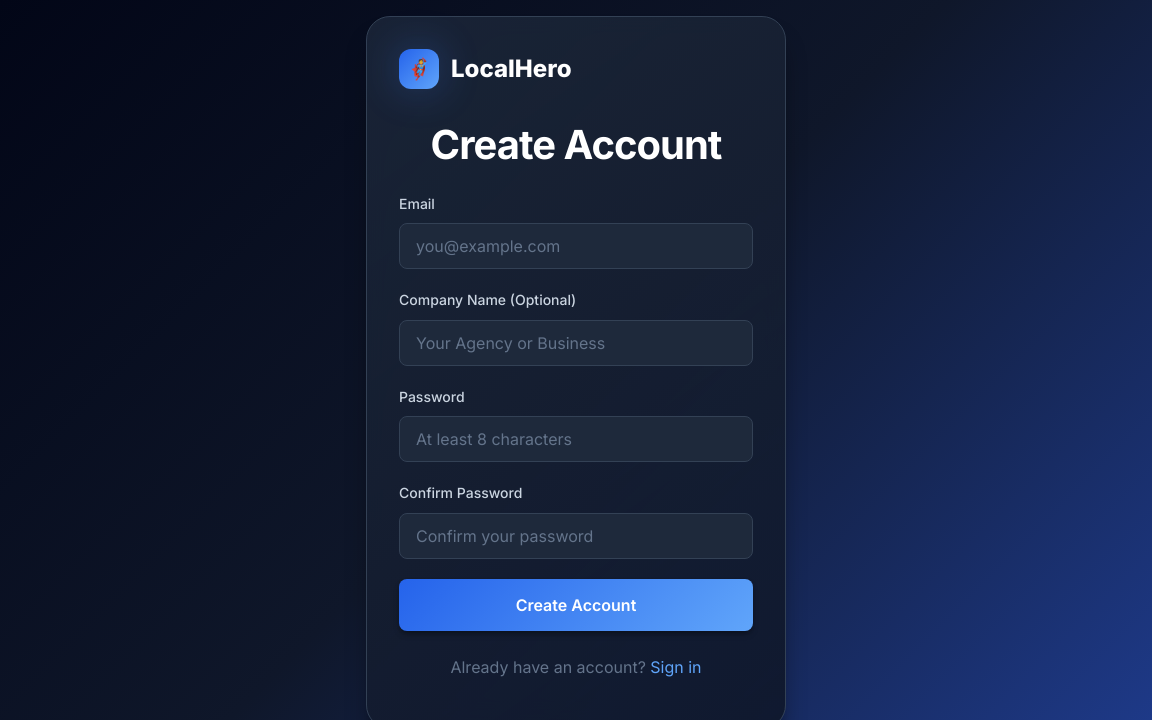
Register › shows error when passwords do not match
Type "test@example.com" into the field labelled "Email". click: (576, 246)
box: [399,223,753,269]
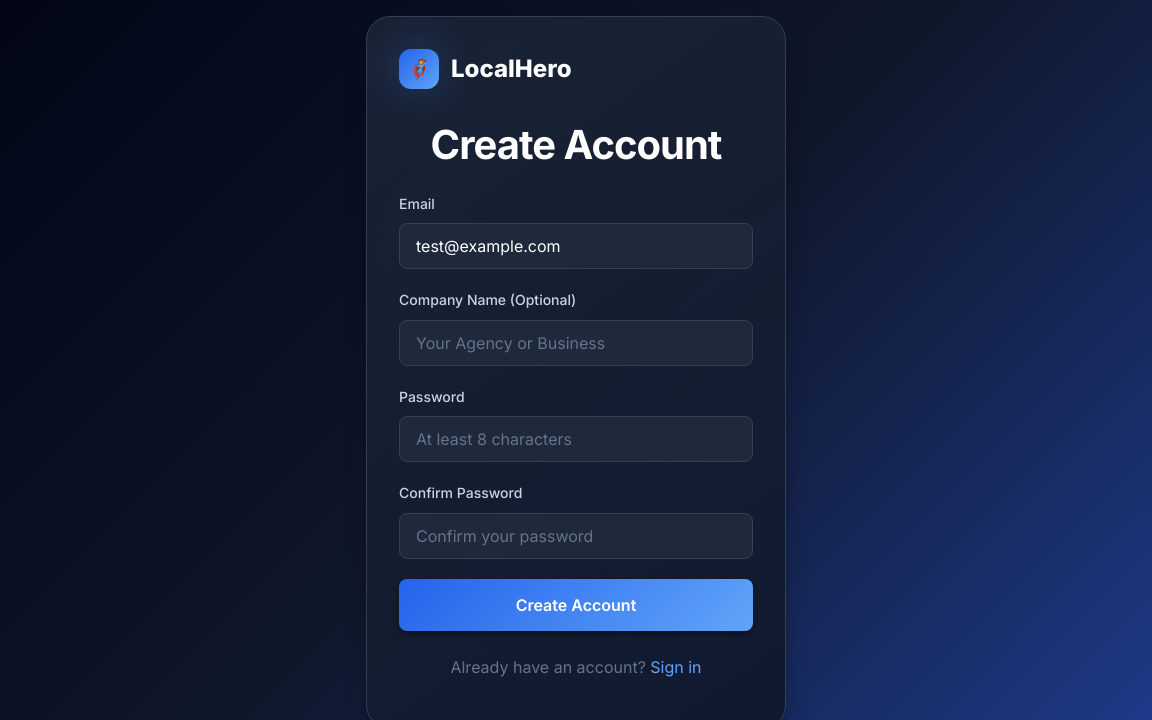
Type "password123" into the password field labelled "Password". click: (576, 439)
box: [399,416,753,462]
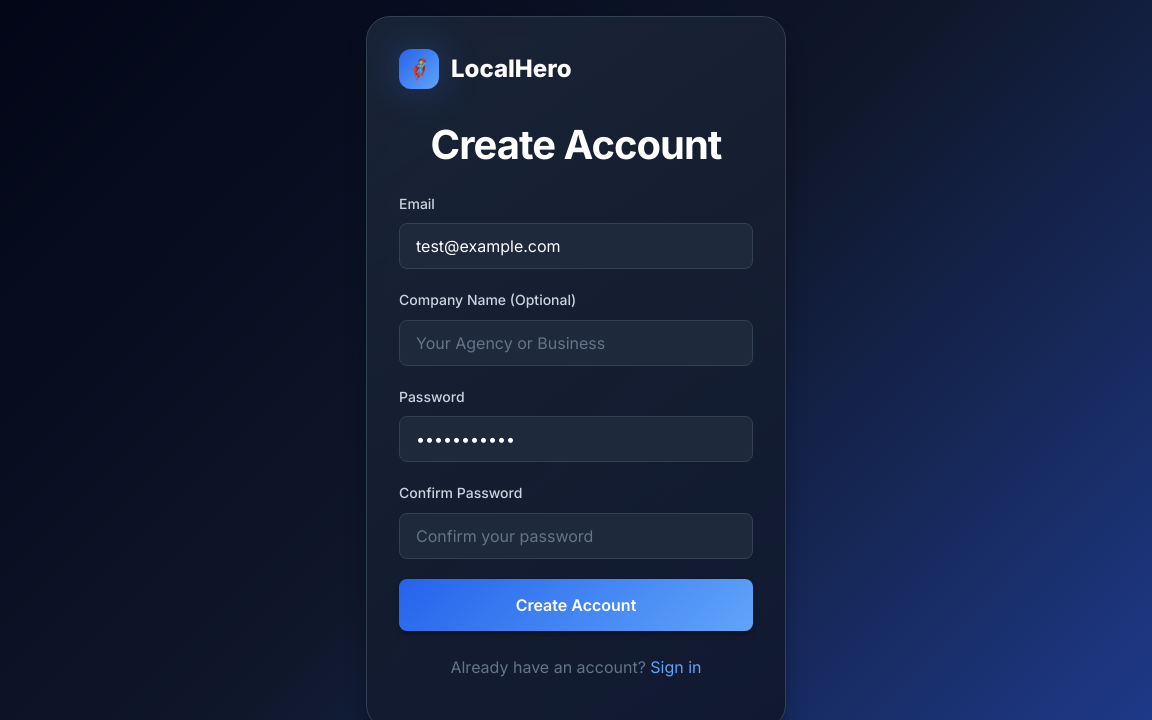
Type "different123" into the password field labelled "Confirm Password". click: (576, 536)
box: [399,513,753,559]
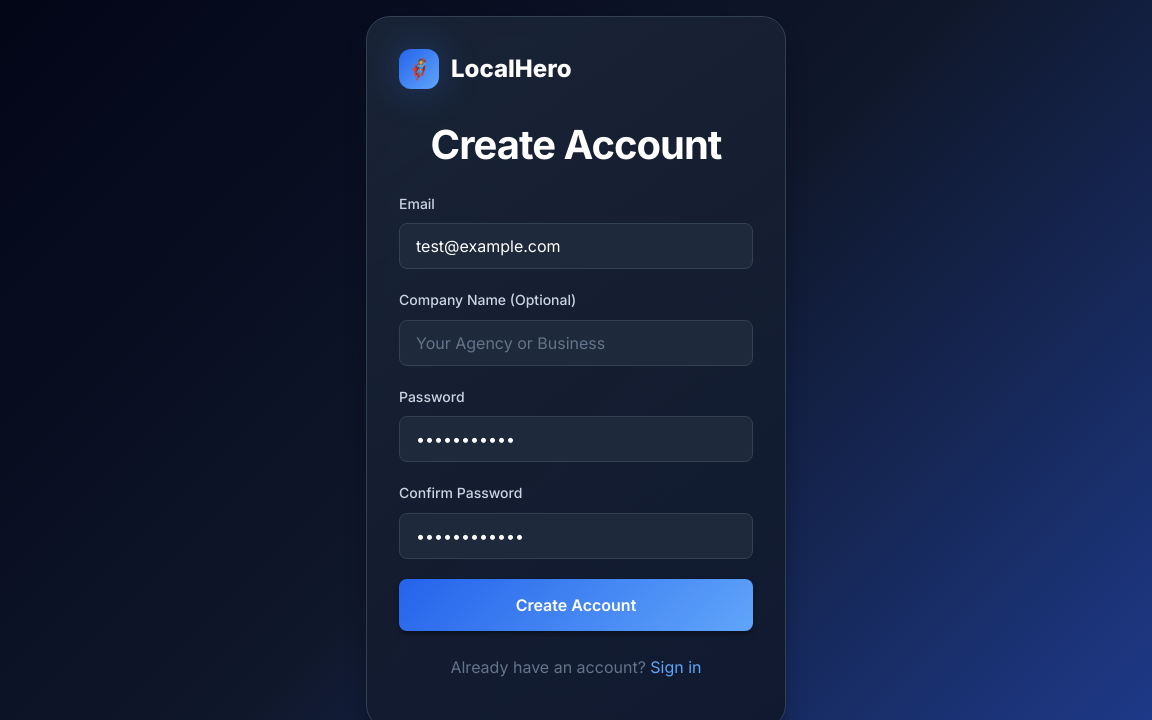
Click the button "Create Account". click: (576, 605)
box: [399,579,753,631]
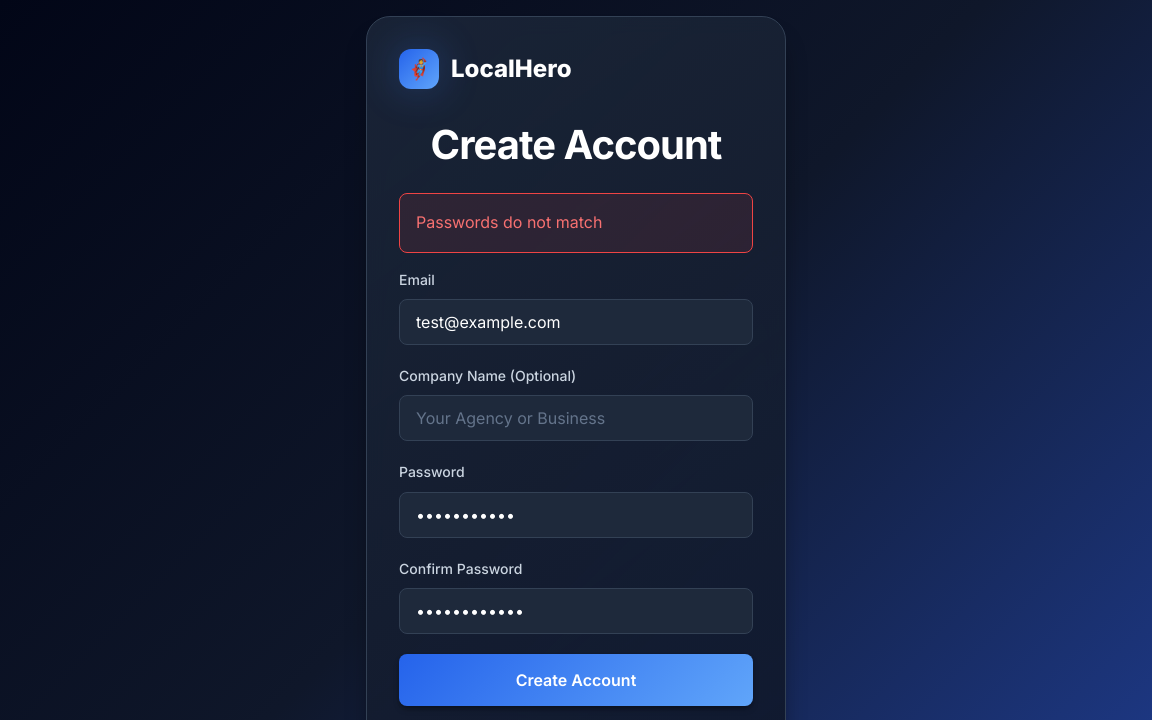
Result: the text "Passwords do not match" is shown at [399,193,753,253]
